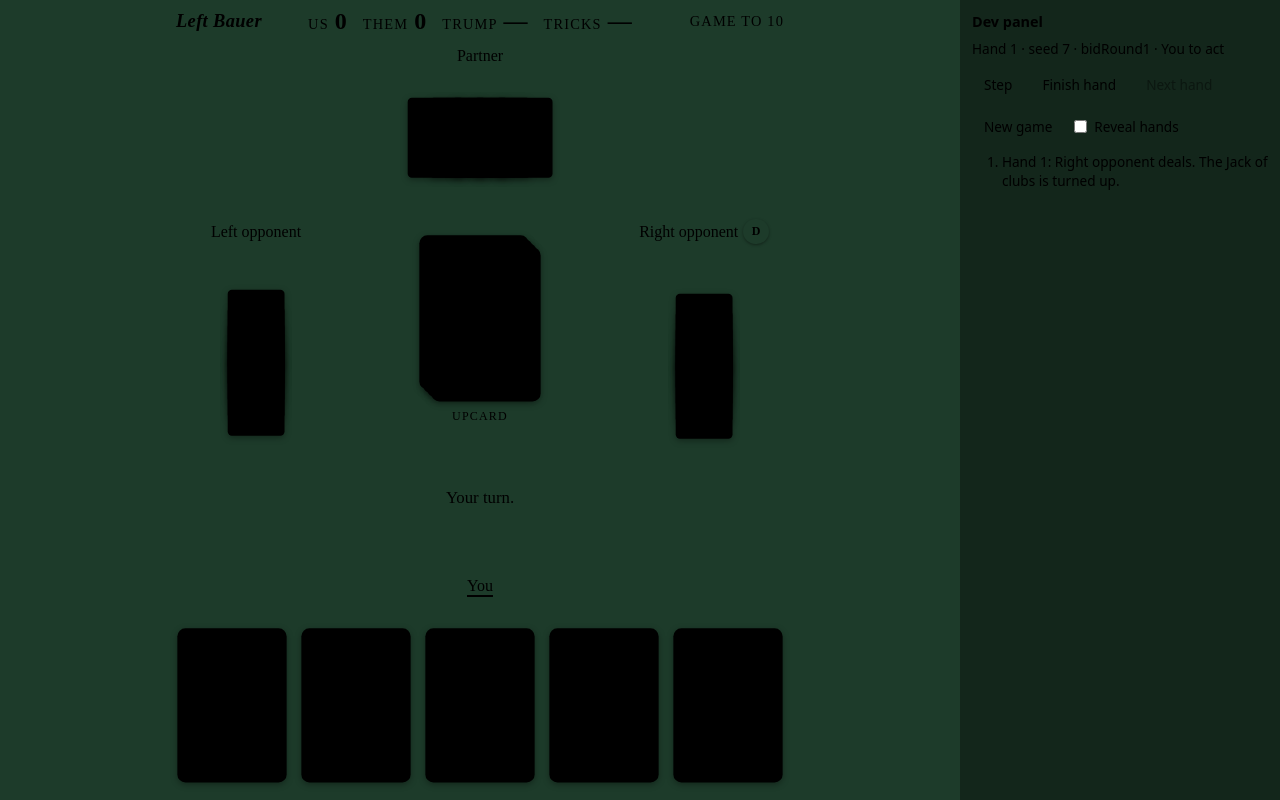
Test: DevApp (?dev) › starts a new game
The image size is (1280, 800).
What coordinates should you click on to do the following:
click the button "Finish hand"
I would click on:
 (1079, 84)
Its box is [1030,66,1128,102].
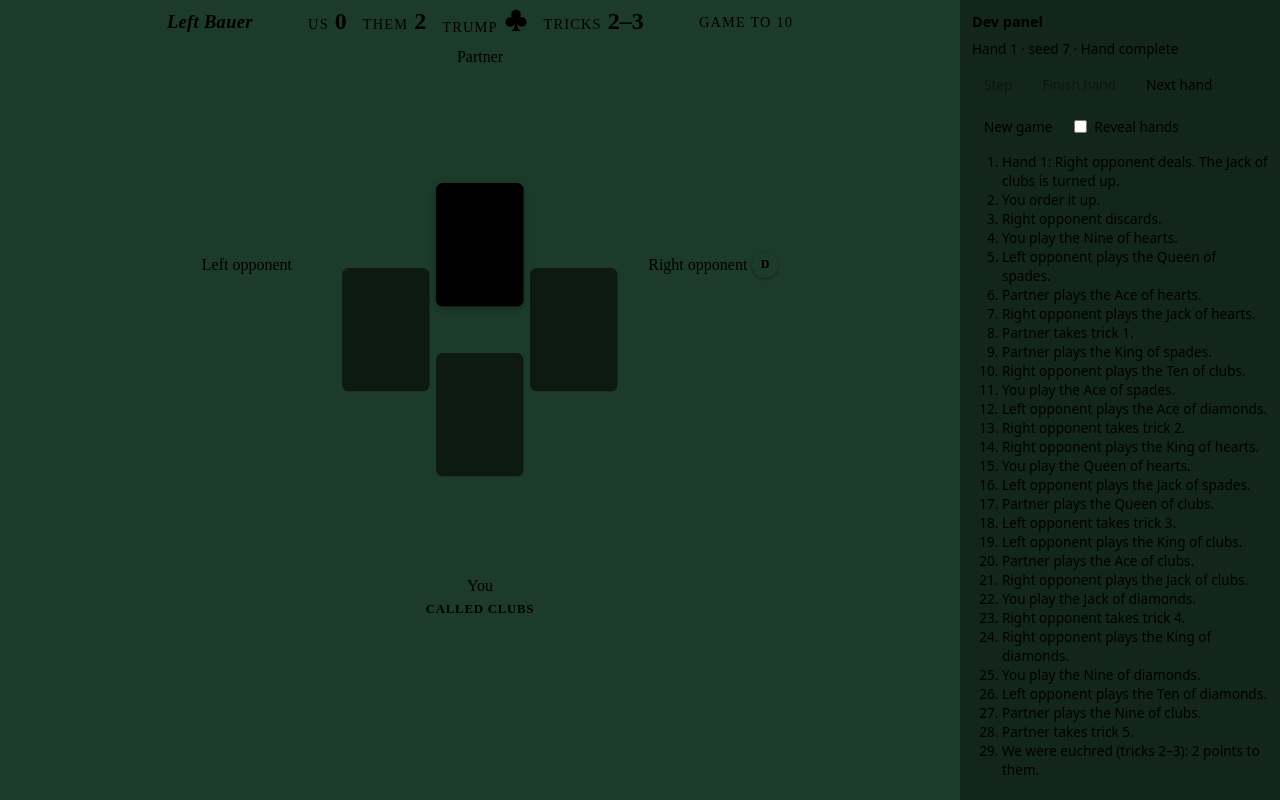
What coordinates should you click on to do the following:
click the button "New game"
I would click on:
 (1018, 126)
Its box is [972,108,1064,144].
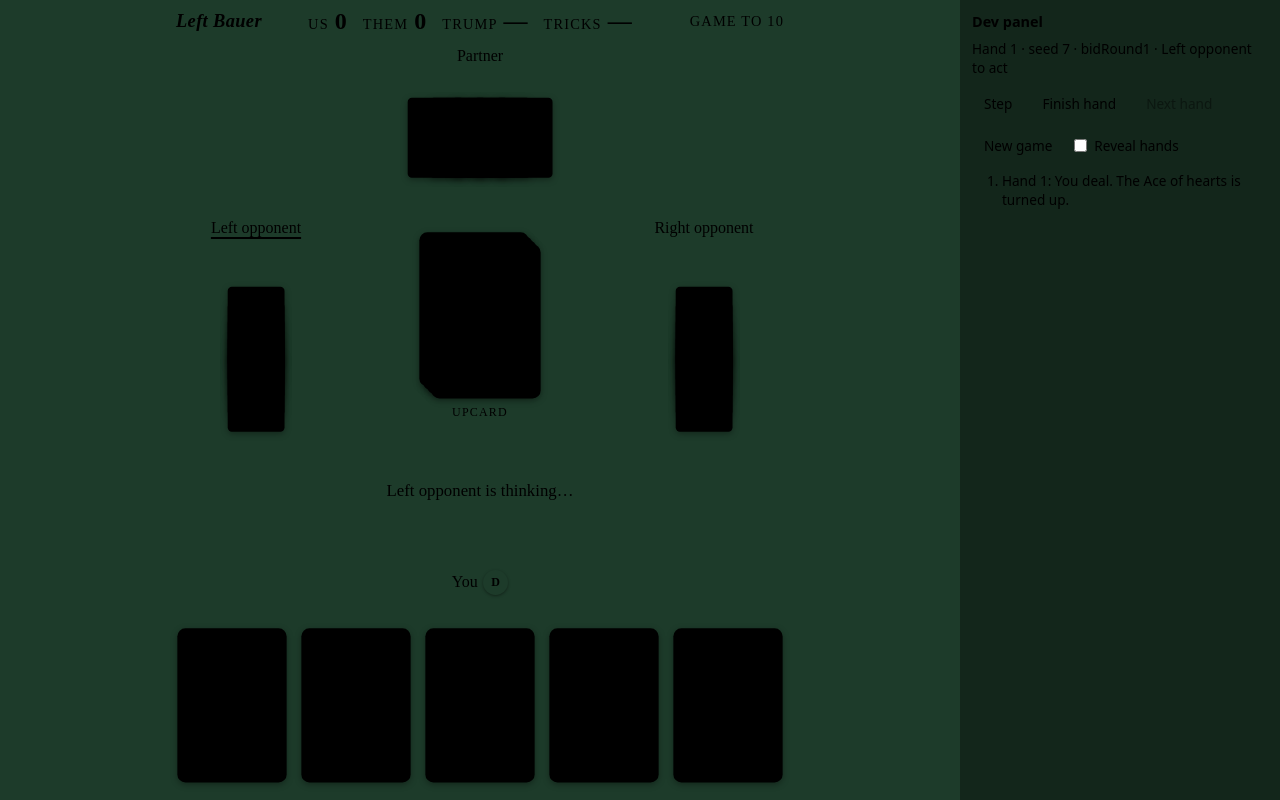
Expected: the message shows "Hand 1", [972,39,1268,77]
Expected: the message shows "bidRound1", [972,39,1252,77]
